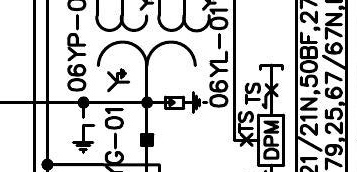115_gs: (71, 114, 96, 155)
115_la: (164, 90, 209, 115)
DPM: (257, 114, 285, 167)
